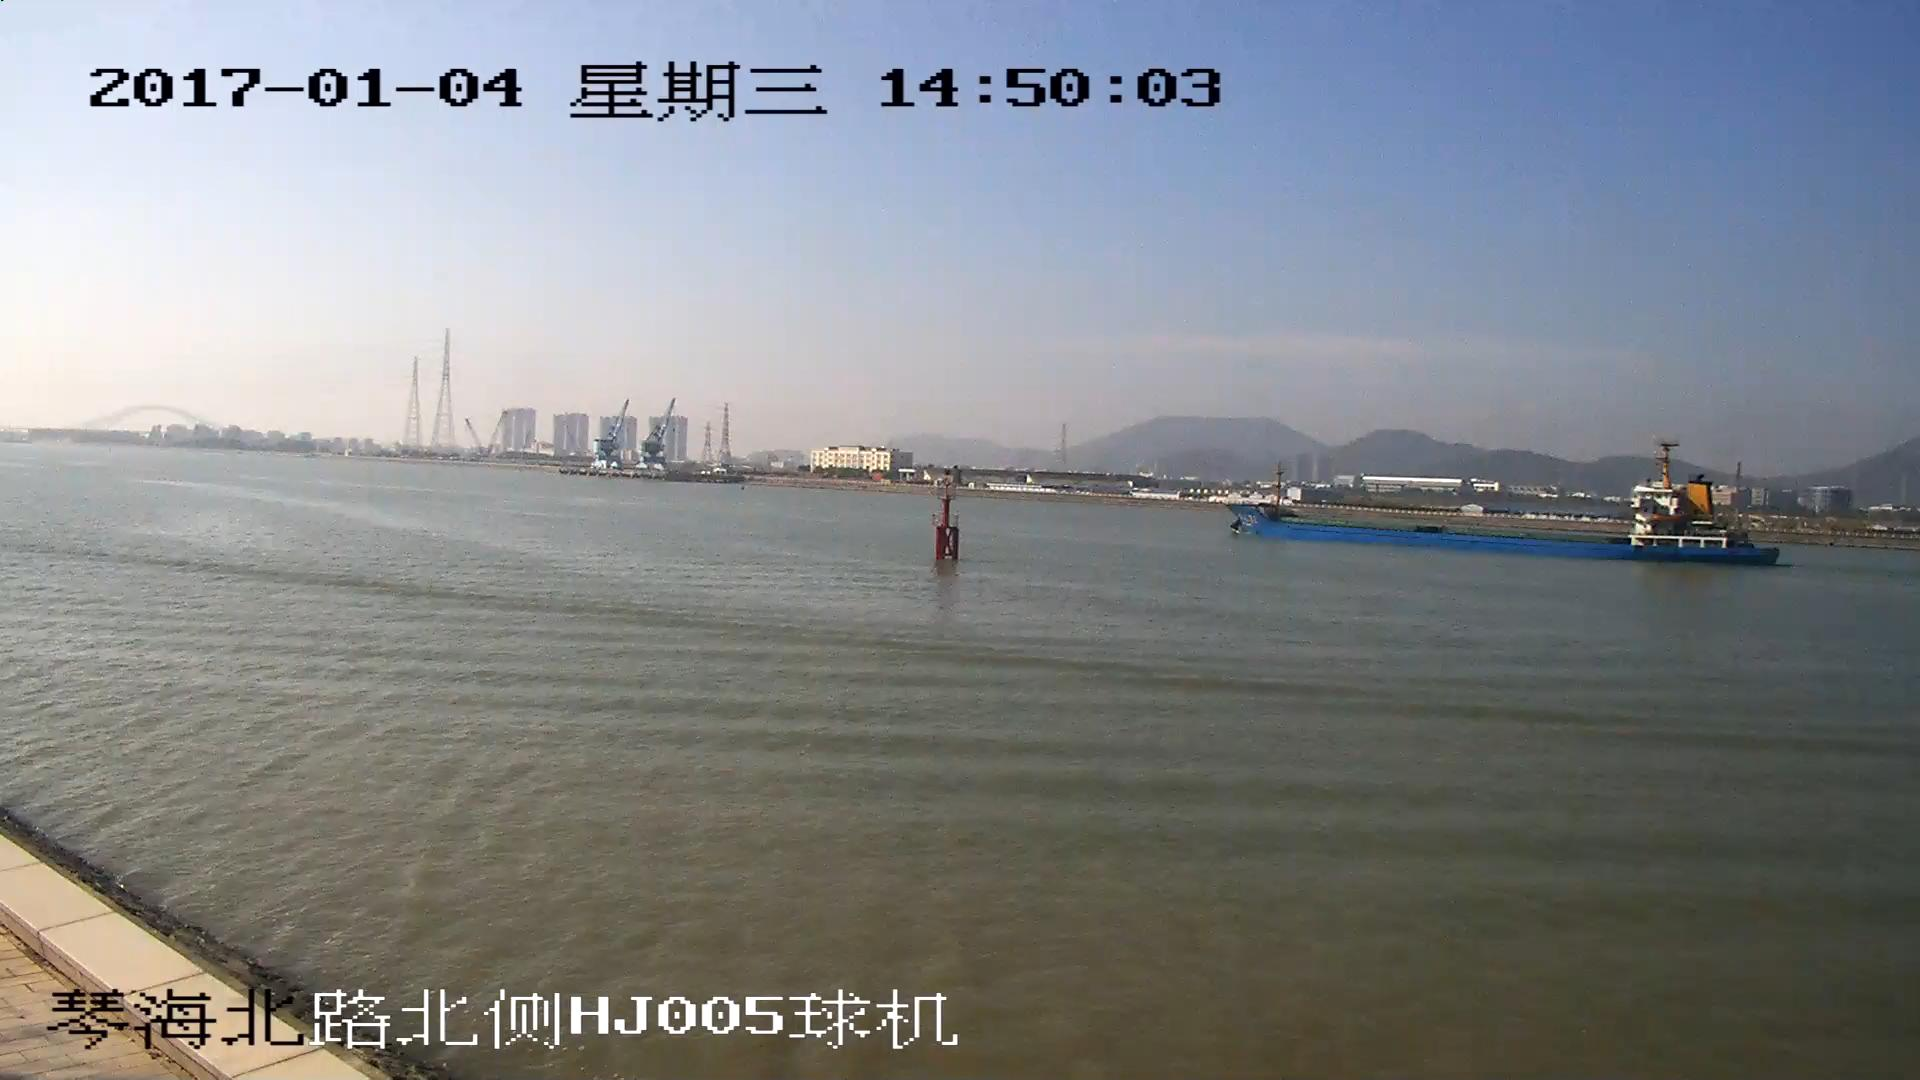general cargo ship: (1229, 444, 1779, 569)
